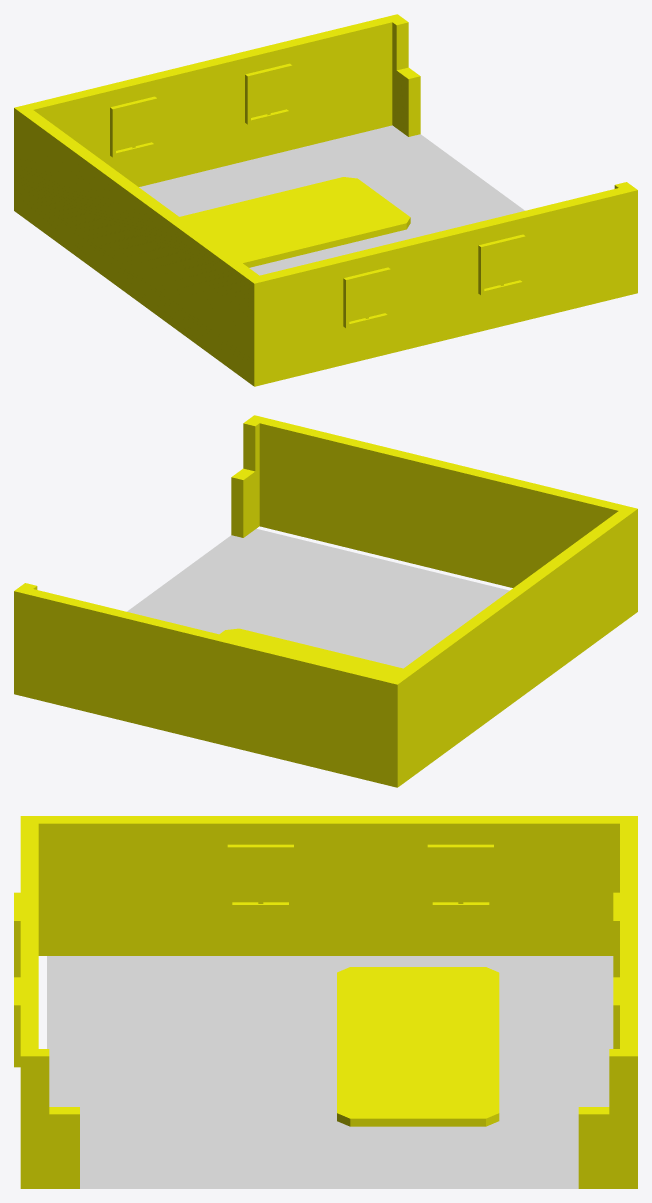
File: Bep.gltf
The picture shows the model from 3 angles, top to bottom: view 1: azimuth 30°, elevation 25°; view 2: azimuth 150°, elevation 25°; view 3: azimuth 270°, elevation 25°; orthographic projection. The views are drawn at different scales.
Visible parts, largest first — view 1: Bep; view 2: Bep; view 3: Bep.
Boxes of the visible parts, x1,y1,x2,y2 form: Bep: (14, 14, 637, 386); Bep: (14, 415, 637, 787); Bep: (14, 816, 637, 1188).
Size of the model in its own units: 37.87 by 9.73 by 41.56.
Materials: 2 (1 with a texture image).
